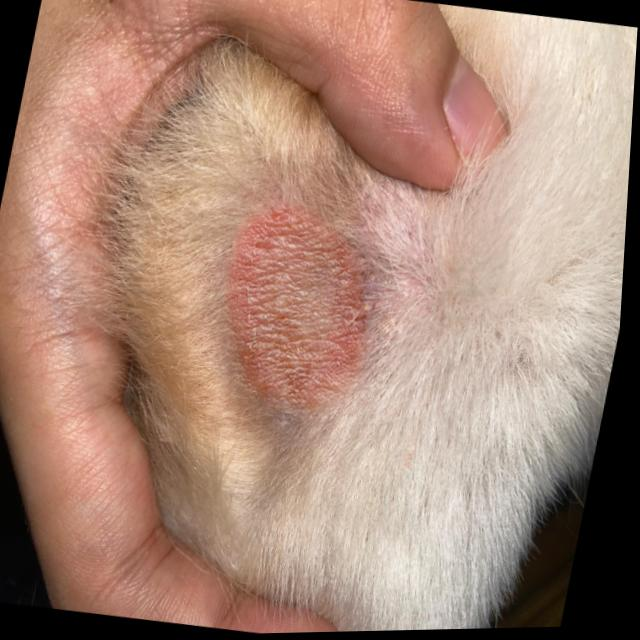ringworm: (184, 181, 412, 452)
